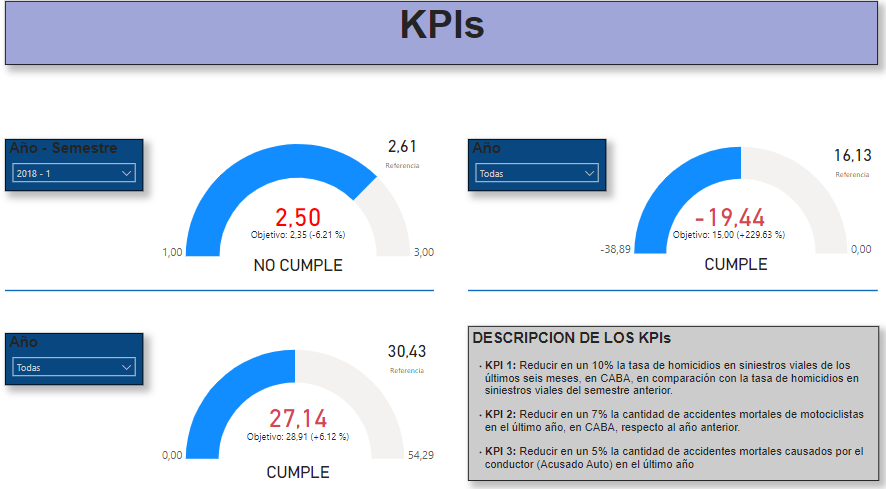

What the dashboard file says about the page in this screenshot:
{"tool":"powerbi","page":{"name":"KPIs","canvas":[1280,720],"ordinal":5},"visuals":[{"type":"textbox","title":"KPIs","box":[10,11,1257,92],"z":0},{"type":"gauge","fields":{"Y":["Medidas.Tasa_Homicidios_Semestre_Actual"]},"box":[226.1,210.2,411.8,181],"z":1000},{"type":"gauge","fields":{"Y":["Medidas.Tasa_Accidentes_Auto"]},"box":[226.1,504,411.8,181.4],"z":2000},{"type":"gauge","fields":{"Y":["Medidas.Tasa_Accidentes_Moto_actual"]},"box":[856.8,210.2,411,181],"z":3000},{"type":"slicer","title":"Año","fields":{"Values":["Calendario.Date.Variación.Jerarquía de fechas.Año"]},"box":[676.8,210.2,198.7,74.9],"z":4000},{"type":"slicer","title":"Año - Semestre","fields":{"Values":["Calendario.Año_Semestre"]},"box":[10.1,210.2,198.7,74.9],"z":5000},{"type":"slicer","title":"Año","fields":{"Values":["Calendario.Date.Variación.Jerarquía de fechas.Año"]},"box":[10.1,489.6,198.7,74.9],"z":6000},{"type":"kpi","fields":{"Indicator":["Medidas.Tasa_Accidentes_Moto_actual"],"TrendLine":["Calendario.Año"],"Goal":["Medidas.Objetivo_Reducción2"]},"box":[964.8,285.1,175.7,89.3],"z":7000},{"type":"kpi","fields":{"Goal":["Medidas.Objetivo_Reducción"],"TrendLine":["Calendario.Año_Semestre"],"Indicator":["Medidas.Tasa_Homicidios_Semestre_Actual"]},"box":[344.2,285.1,175.7,89.3],"z":8000},{"type":"card","fields":{"Values":["Medidas.Estado_KPI"]},"box":[355.7,375.8,152.6,31.7],"z":9000},{"type":"card","fields":{"Values":["Medidas.Estado_KPI2"]},"box":[986.4,374.4,152.6,31.7],"z":10000},{"type":"card","fields":{"Values":["Medidas.Estado_KPI3"]},"box":[355.7,669.6,152.6,38.9],"z":11000},{"type":"kpi","fields":{"Indicator":["Medidas.Tasa_Accidentes_Auto"],"TrendLine":["Calendario.Año"],"Goal":["Medidas.Objetivo_Reducción3"]},"box":[344.2,554.4,175.7,131],"z":12000},{"type":"card","fields":{"Values":["Medidas.TasaHomicidiosPorSemestre22"]},"box":[550.1,194.4,64.8,64.8],"z":13000},{"type":"card","fields":{"Values":["Medidas.Tasa_Accidentes_Moto_Anterior"]},"box":[1193.8,210.2,73.4,60.5],"z":14000},{"type":"textbox","box":[676.8,479.5,591.8,223.2],"z":15000},{"type":"card","fields":{"Values":["Medidas.Tasa_Accidentes_Auto_Anterior"]},"box":[550.1,489.6,77.8,64.8],"z":16000},{"type":"shape","box":[10.1,352.8,617.8,151.2],"z":17000},{"type":"shape","box":[676.8,352.8,590.4,151.2],"z":18000}]}

Visuals, with their boxes in screenshot pixels (x1, y1, x2, y2), scaled from the page's 1280x720 canvas onto the 886x489 screenshot:
"KPIs" textbox: left=7, top=7, right=877, bottom=70
gauge - Medidas.Tasa_Homicidios_Semestre_Actual: left=157, top=143, right=442, bottom=266
gauge - Medidas.Tasa_Accidentes_Auto: left=157, top=342, right=442, bottom=466
gauge - Medidas.Tasa_Accidentes_Moto_actual: left=593, top=143, right=878, bottom=266
"Año" slicer: left=468, top=143, right=606, bottom=194
"Año - Semestre" slicer: left=7, top=143, right=145, bottom=194
"Año" slicer: left=7, top=333, right=145, bottom=383
kpi - Medidas.Tasa_Accidentes_Moto_actual x Calendario.Año: left=668, top=194, right=789, bottom=254
kpi - Medidas.Objetivo_Reducción x Calendario.Año_Semestre: left=238, top=194, right=360, bottom=254
card - Medidas.Estado_KPI: left=246, top=255, right=352, bottom=277
card - Medidas.Estado_KPI2: left=683, top=254, right=788, bottom=276
card - Medidas.Estado_KPI3: left=246, top=455, right=352, bottom=481
kpi - Medidas.Tasa_Accidentes_Auto x Calendario.Año: left=238, top=377, right=360, bottom=466
card - Medidas.TasaHomicidiosPorSemestre22: left=381, top=132, right=426, bottom=176
card - Medidas.Tasa_Accidentes_Moto_Anterior: left=826, top=143, right=877, bottom=184
textbox: left=468, top=326, right=878, bottom=477
card - Medidas.Tasa_Accidentes_Auto_Anterior: left=381, top=333, right=435, bottom=377
shape: left=7, top=240, right=435, bottom=342
shape: left=468, top=240, right=877, bottom=342
